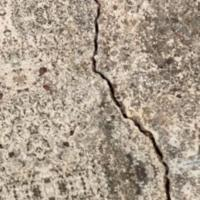crack: (73, 0, 172, 199)
